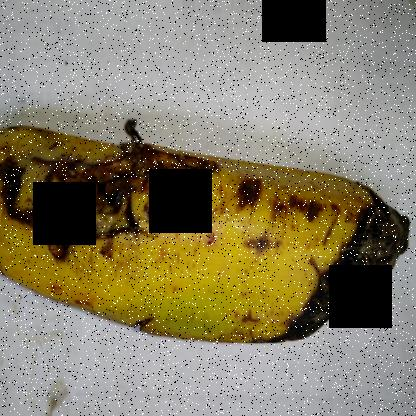rotten: (0, 137, 225, 262), (275, 158, 410, 360)
